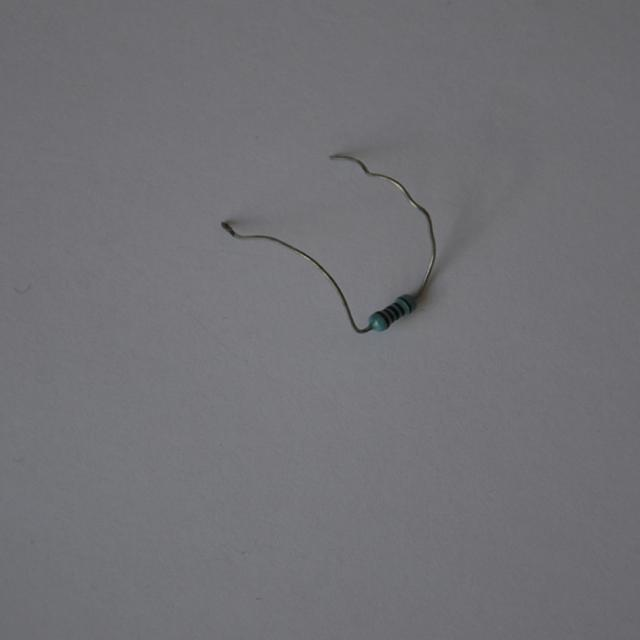Resistor Carbon-Film: (363, 290, 423, 336)
